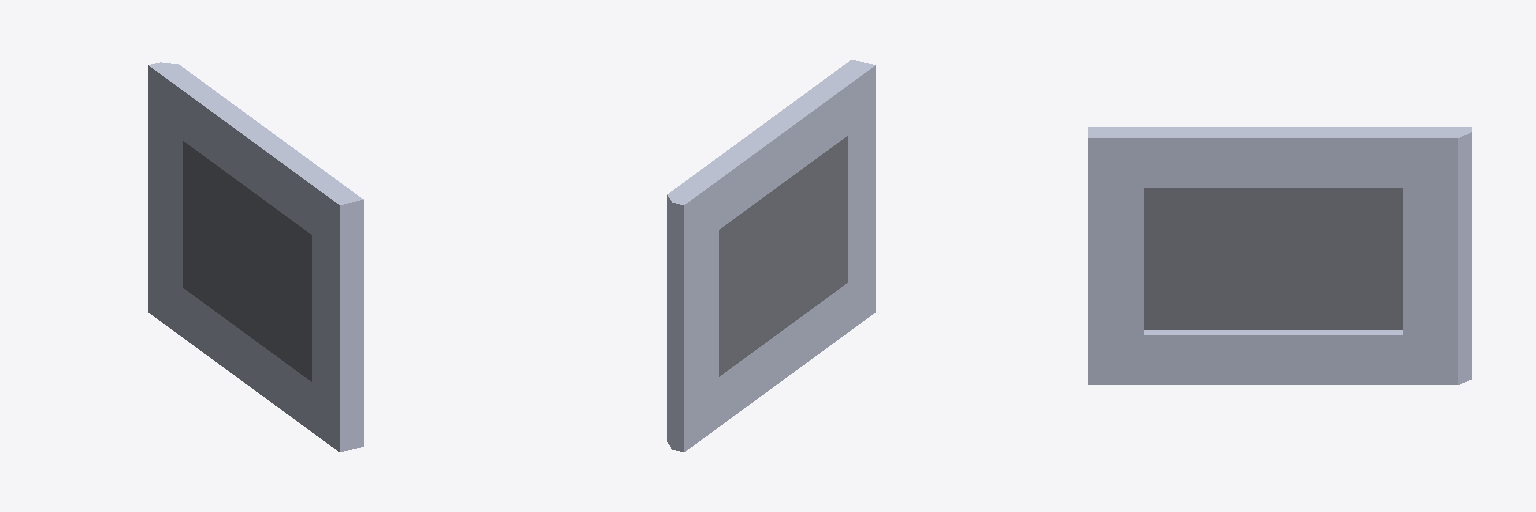
File: spaceInterior_073.obj
3 renders of one model, left to right at view 1: azimuth 30°, elevation 25°; view 2: azimuth 150°, elevation 25°; view 3: azimuth 270°, elevation 25°, orthographic.
Parts seen in each view (by area): view 1: Mesh1 Group1 Model; view 2: Mesh1 Group1 Model; view 3: Mesh1 Group1 Model.
Part boxes in pixels (x1,y1,x2,y2): Mesh1 Group1 Model: (148, 62, 363, 451); Mesh1 Group1 Model: (667, 60, 875, 451); Mesh1 Group1 Model: (1088, 127, 1471, 384).
Size of the model in its own units: 0.0625 by 0.6176 by 0.8676.